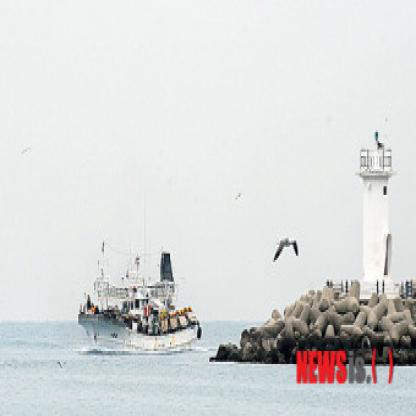fish-b: (64, 227, 206, 362)
